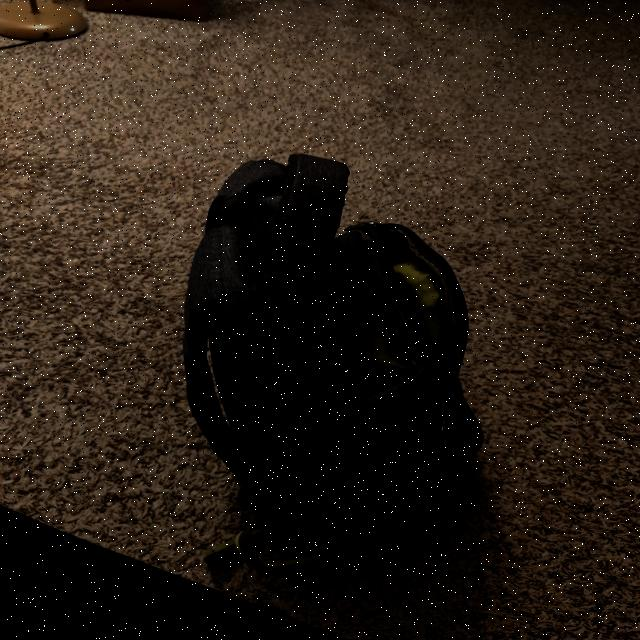bag: (192, 152, 463, 541)
